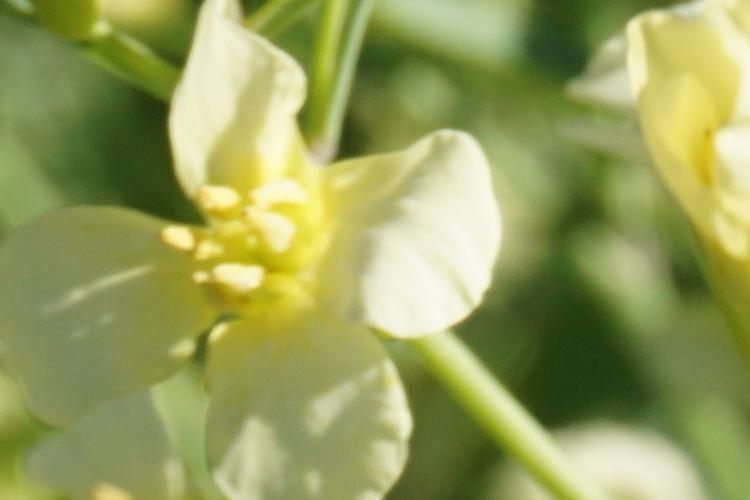white: (16, 32, 491, 500), (613, 22, 750, 246)
